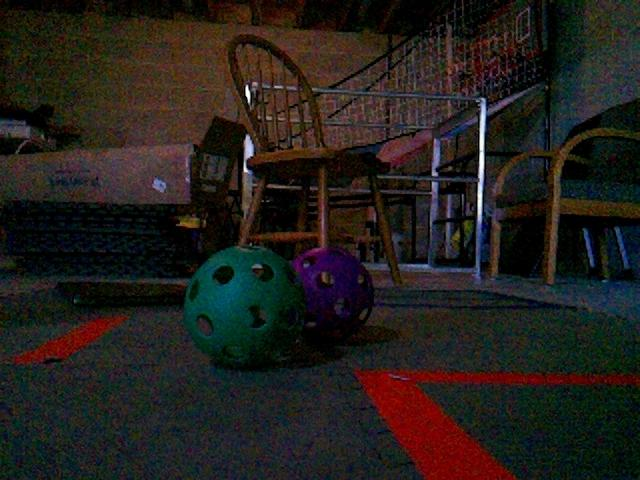Green: (182, 244, 309, 367)
Purple: (289, 245, 376, 338)
